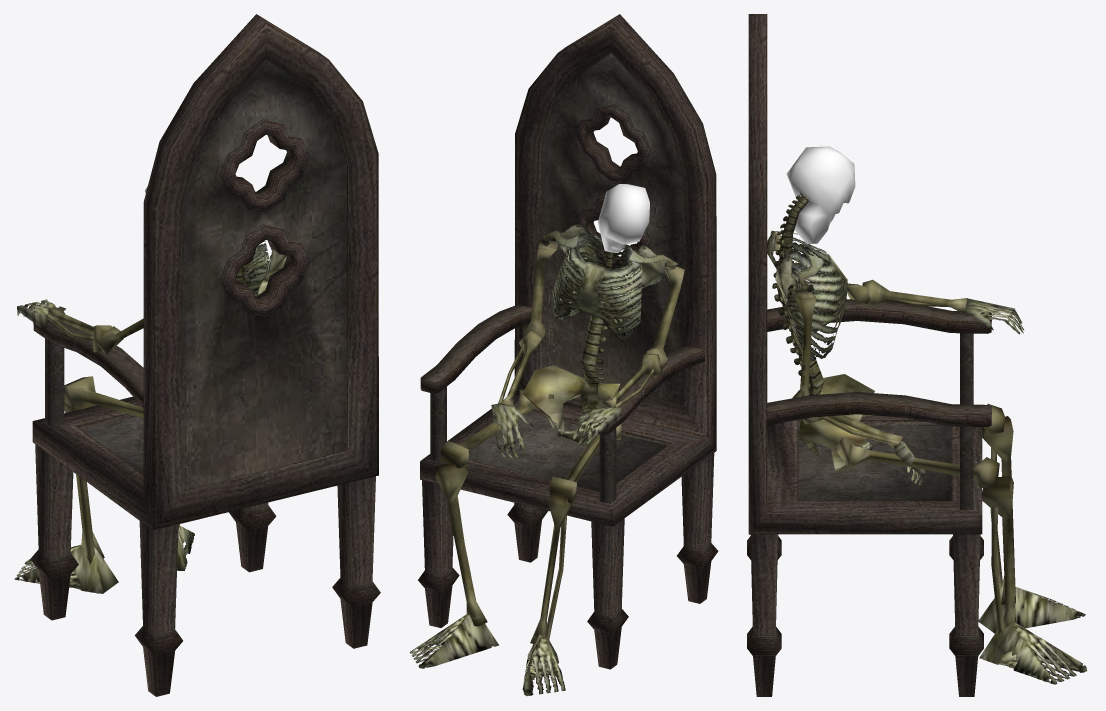
The model's file is KM_SKELETON_THRONE_02.glb.
3 renders of one model, left to right at view 1: azimuth 30°, elevation 25°; view 2: azimuth 150°, elevation 25°; view 3: azimuth 270°, elevation 25°, orthographic. The views are drawn at different scales.
Parts seen in each view (by area): view 1: Mesh; view 2: Mesh; view 3: Mesh.
Boxes of the visible parts, box(x1,y1,x2,y2) form: Mesh: box(14, 14, 380, 696); Mesh: box(410, 14, 718, 695); Mesh: box(747, 14, 1087, 696).
Bounding box in the file's own units: 0.6596 × 1.8 × 0.8898.
Materials: 3 (2 with a texture image).
